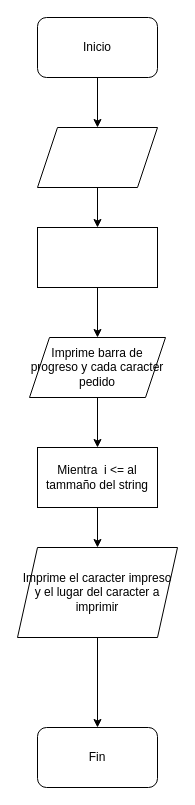
This 195x805 diagram has some shape labels left out. Each missing label, with the box of its shape:
Mientras Porcentaje <= 100: (36, 226, 158, 288)
String nombre String c: (36, 126, 158, 188)
